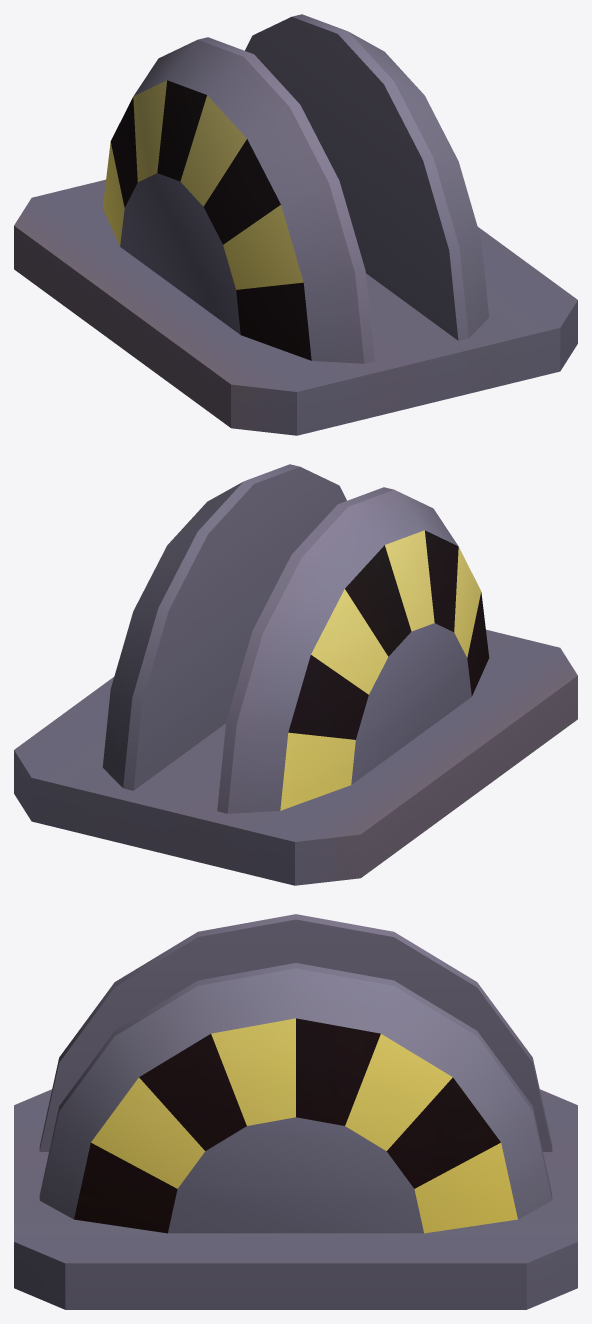
File: lever_base_dark.glb
3 views of the same model, one above another, from view 1: azimuth 30°, elevation 25°; view 2: azimuth 150°, elevation 25°; view 3: azimuth 270°, elevation 25° (orthographic). The views are drawn at different scales.
Parts seen in each view (by area): view 1: Sphere001; view 2: Sphere001; view 3: Sphere001.
Part boxes in pixels (x1=…): Sphere001: x1=14, y1=14, x2=577, y2=435; Sphere001: x1=14, y1=464, x2=577, y2=885; Sphere001: x1=14, y1=914, x2=577, y2=1309.
Bounding box in the file's own units: 0.8299 × 0.6 × 1.1.
1 material, 1 textured.
